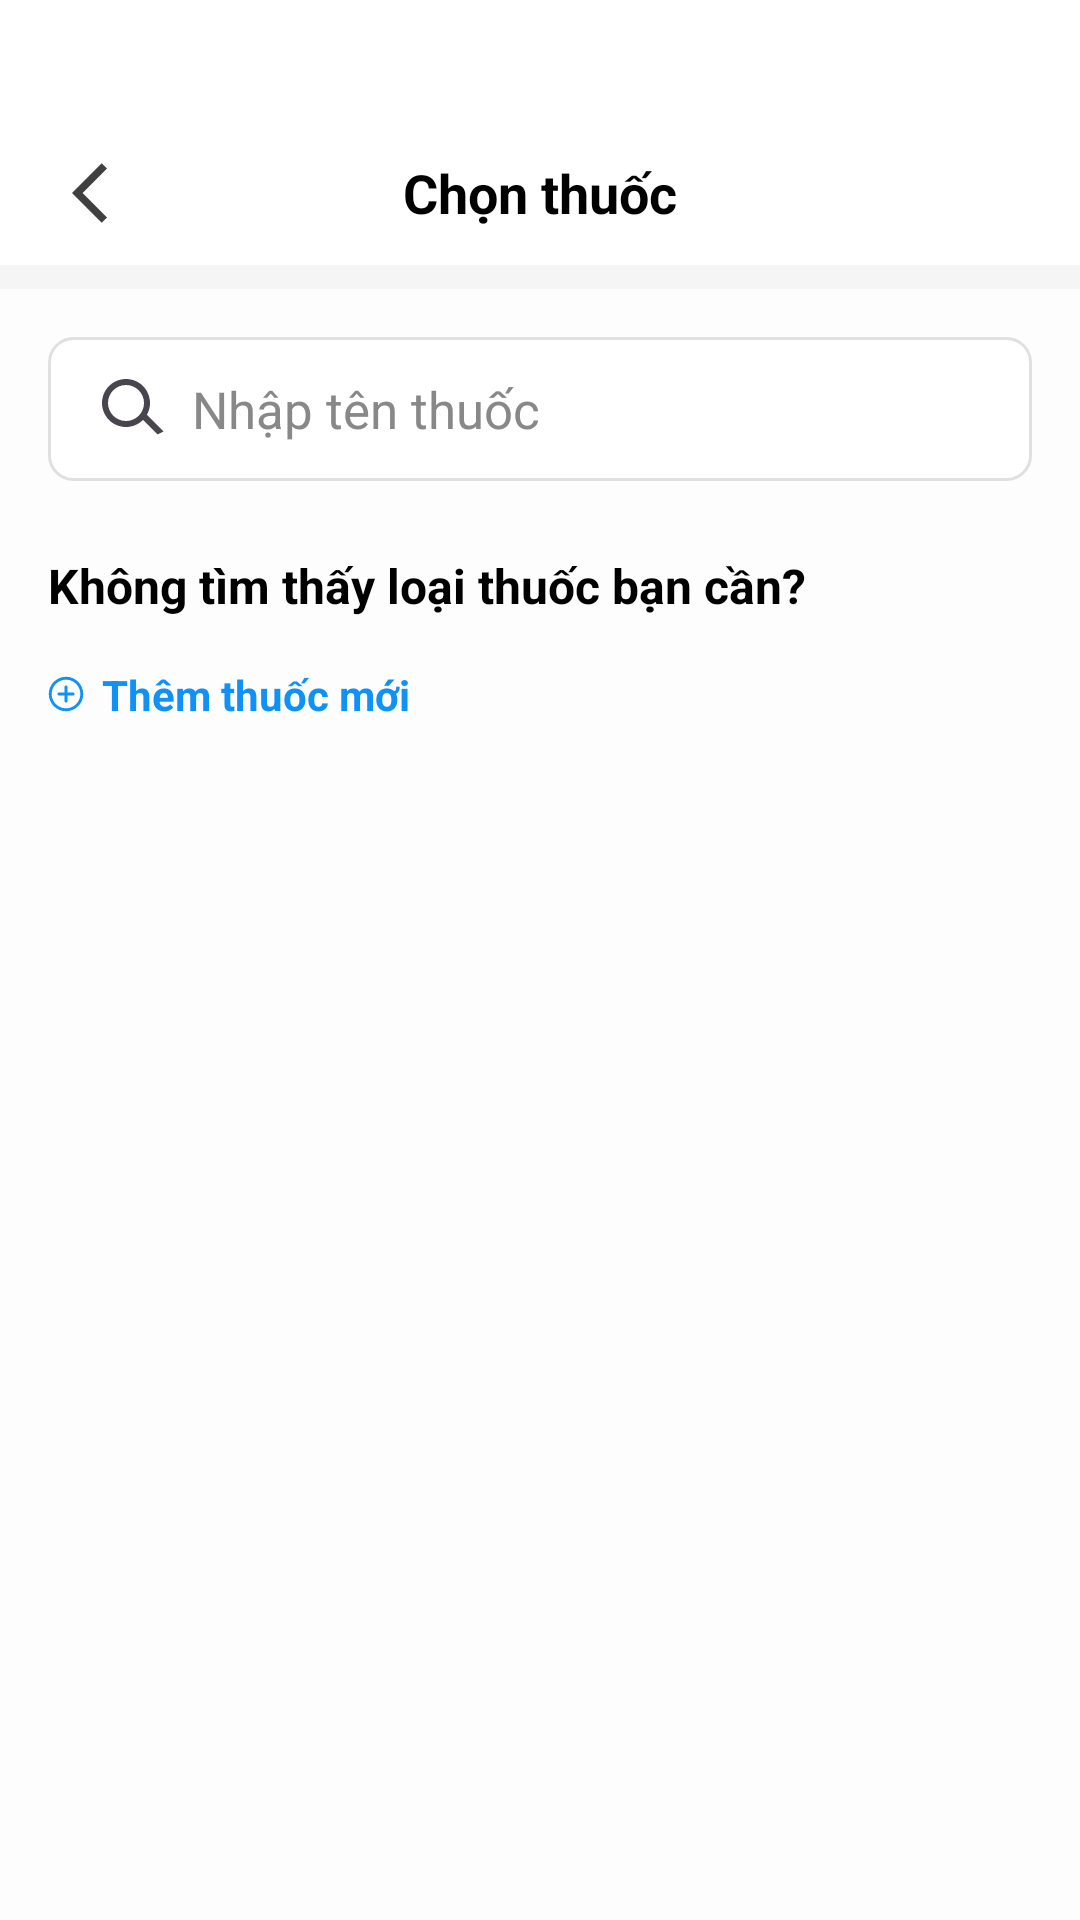

Screen size 1080 × 1920. Icon name, then its center in pixels as (x,y):
Back: (89,193)
